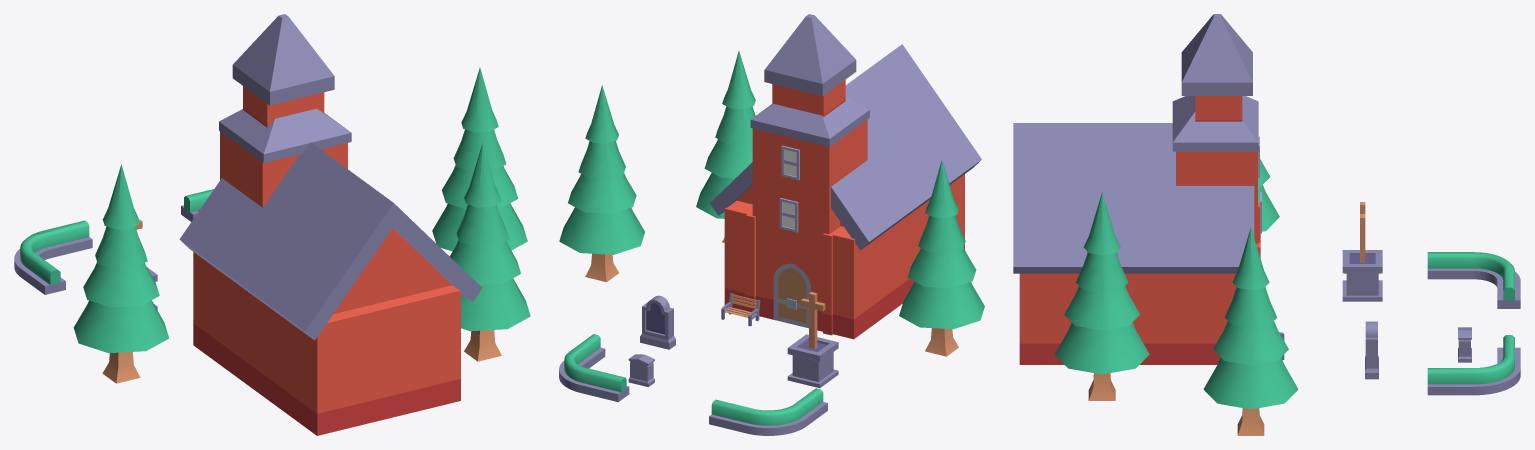
File: church.glb
3 renders of one model, left to right at view 1: azimuth 30°, elevation 25°; view 2: azimuth 150°, elevation 25°; view 3: azimuth 270°, elevation 25°, orthographic. The views are drawn at different scales.
Parts seen in each view (by area): view 1: mergedBlocks(Clone); view 2: mergedBlocks(Clone); view 3: mergedBlocks(Clone).
Boxes of the visible parts, x1,y1,x2,y2 form: mergedBlocks(Clone): (14,14,530,435); mergedBlocks(Clone): (559,14,984,435); mergedBlocks(Clone): (1013,14,1520,435).
Size of the model in its own units: 1.08 by 0.7464 by 1.09.
